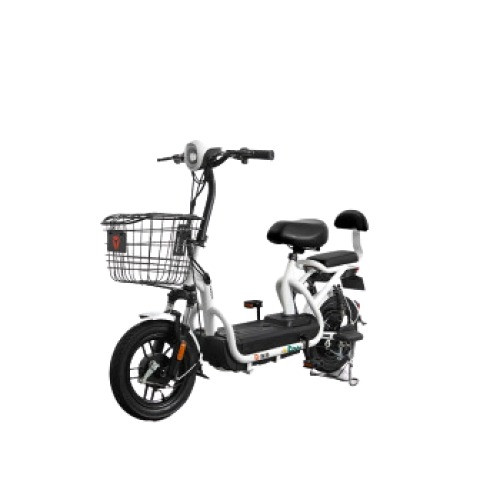MNV: (107, 139, 367, 422)
